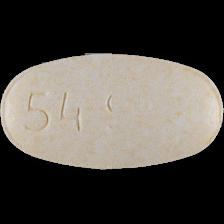0054-0255: (0, 0, 224, 224)
